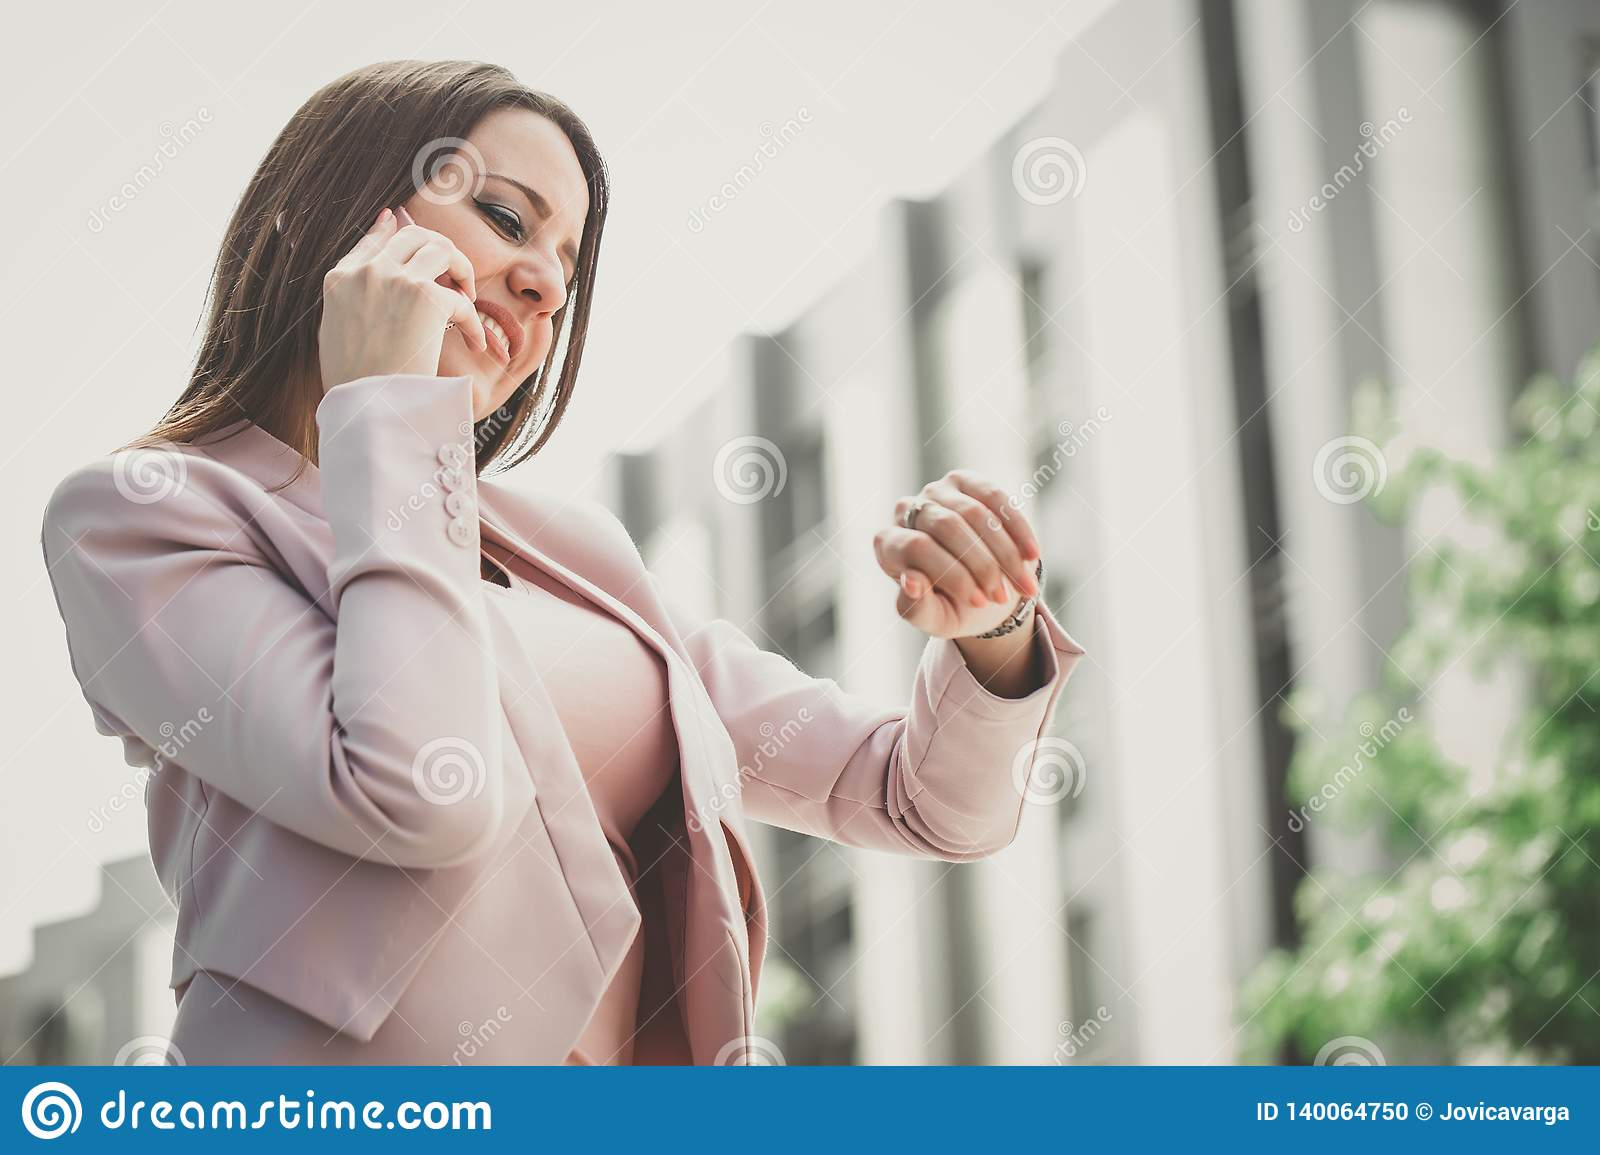phone: (277, 180, 465, 338)
talk: (270, 154, 593, 391)
